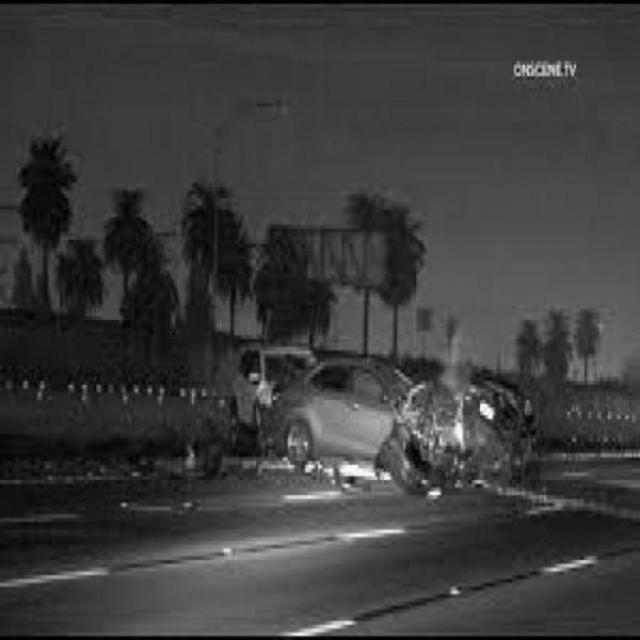accident: (234, 341, 515, 491)
